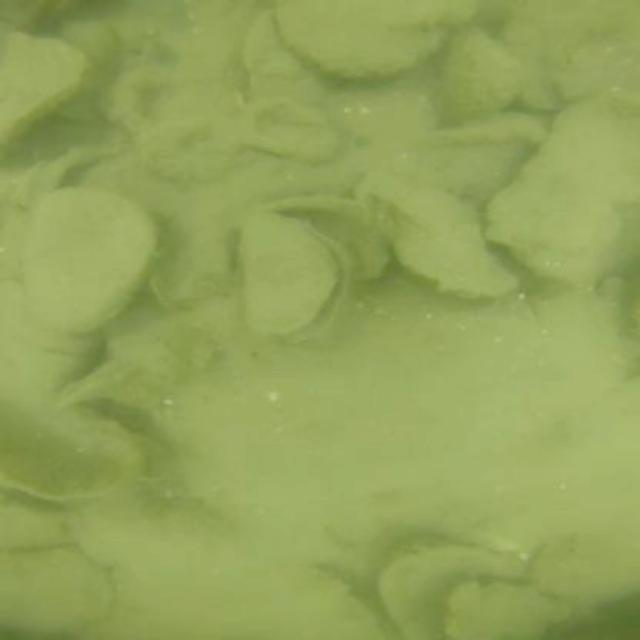Oyster-Closed: (487, 91, 630, 279), (22, 187, 155, 334), (272, 1, 476, 77), (0, 547, 114, 634), (501, 2, 638, 66), (0, 32, 87, 131), (244, 13, 332, 109), (532, 535, 638, 604), (440, 28, 520, 118), (450, 579, 548, 638), (304, 577, 378, 636), (0, 506, 68, 550)
Oyster-Open: (356, 180, 516, 302), (236, 218, 347, 340), (55, 388, 174, 478)
